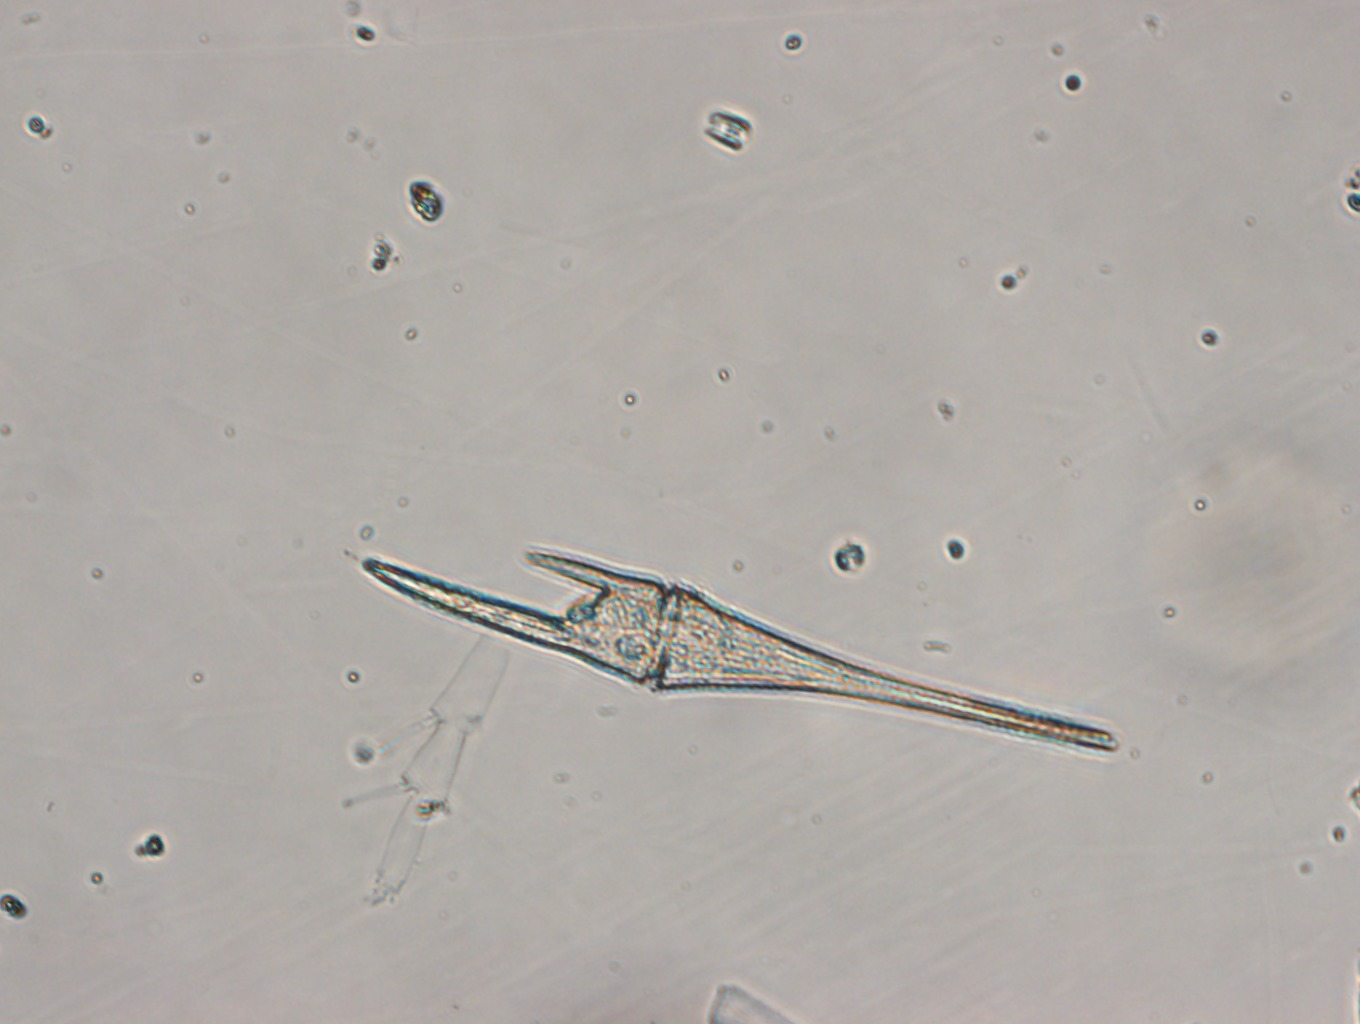ceratium furca: (356, 538, 1120, 755)
